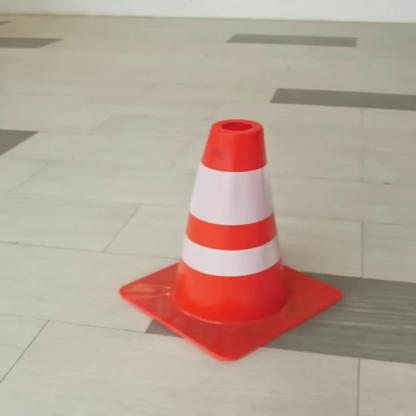cone: (117, 115, 346, 364)
